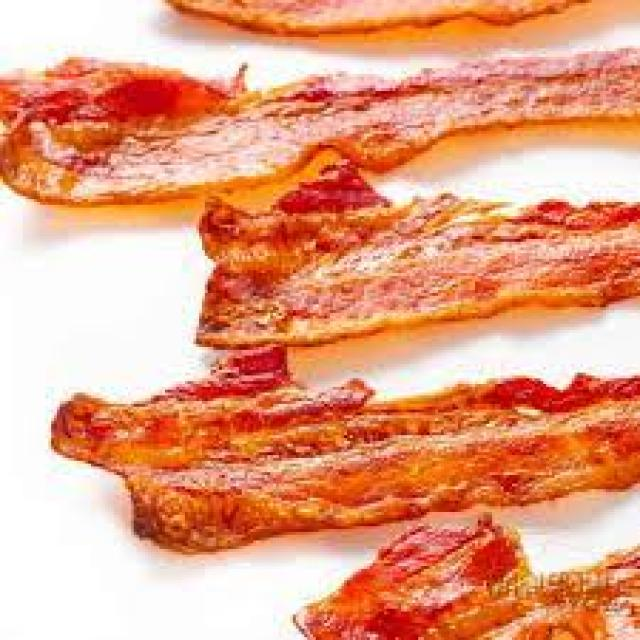Bacon: (55, 349, 640, 552), (1, 48, 640, 203), (198, 160, 640, 347), (295, 515, 640, 640), (168, 1, 589, 36)
